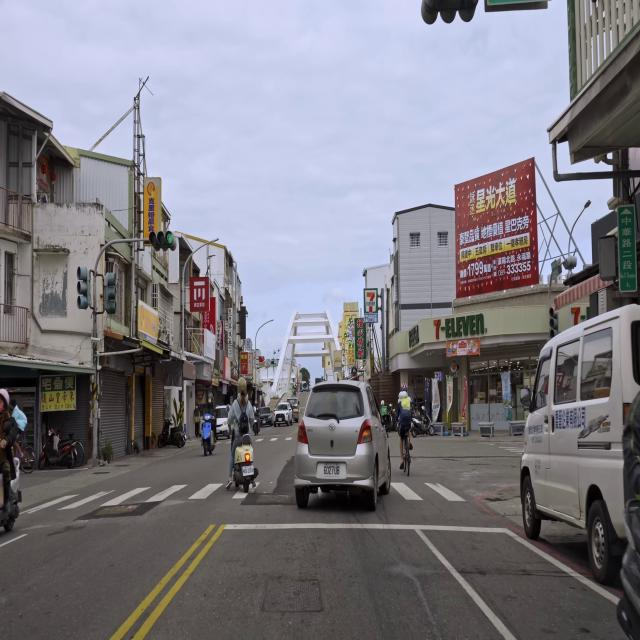green light: (148, 231, 174, 246)
